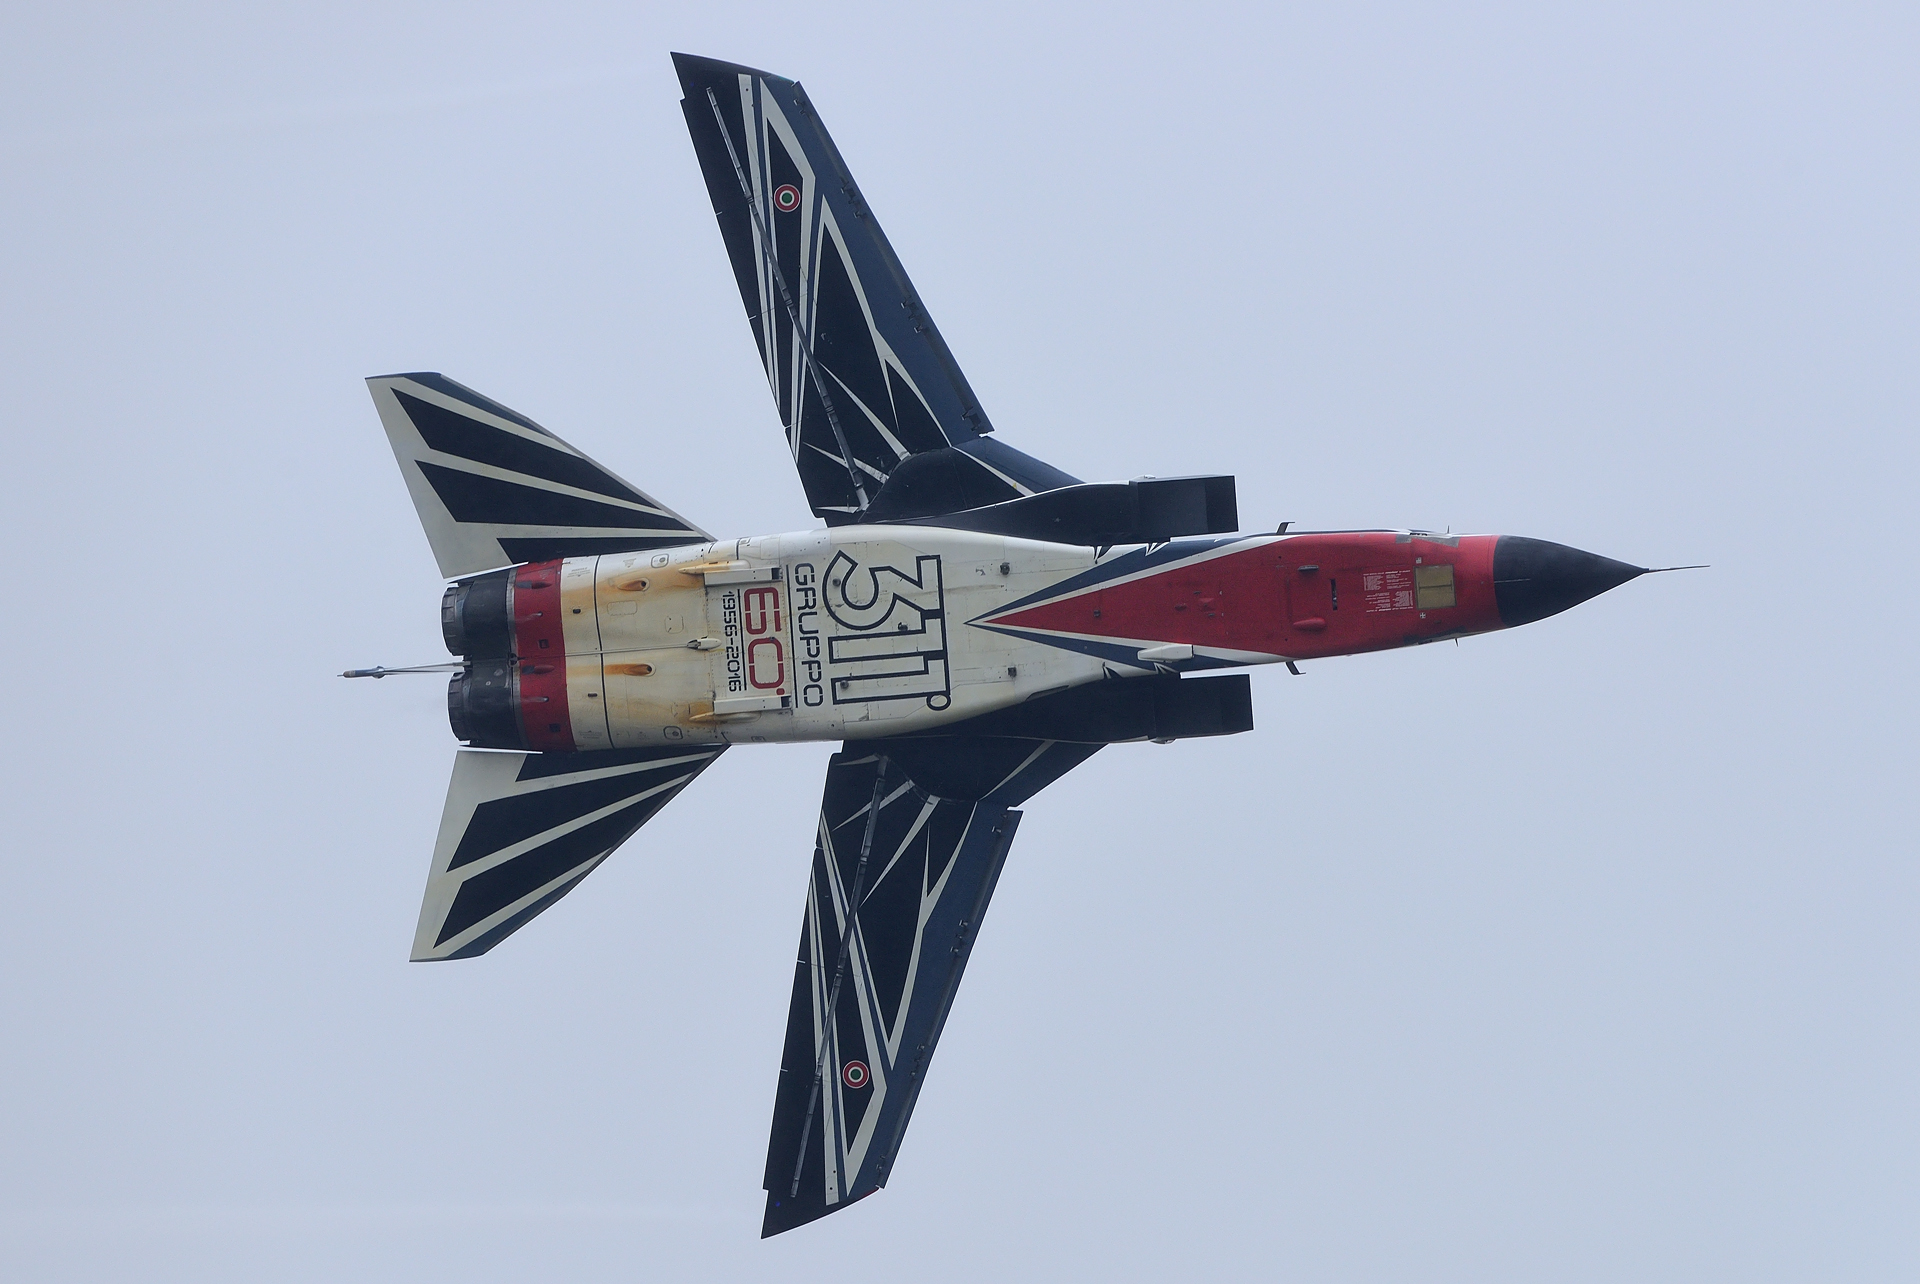Tornado: (337, 52, 1711, 1240)
